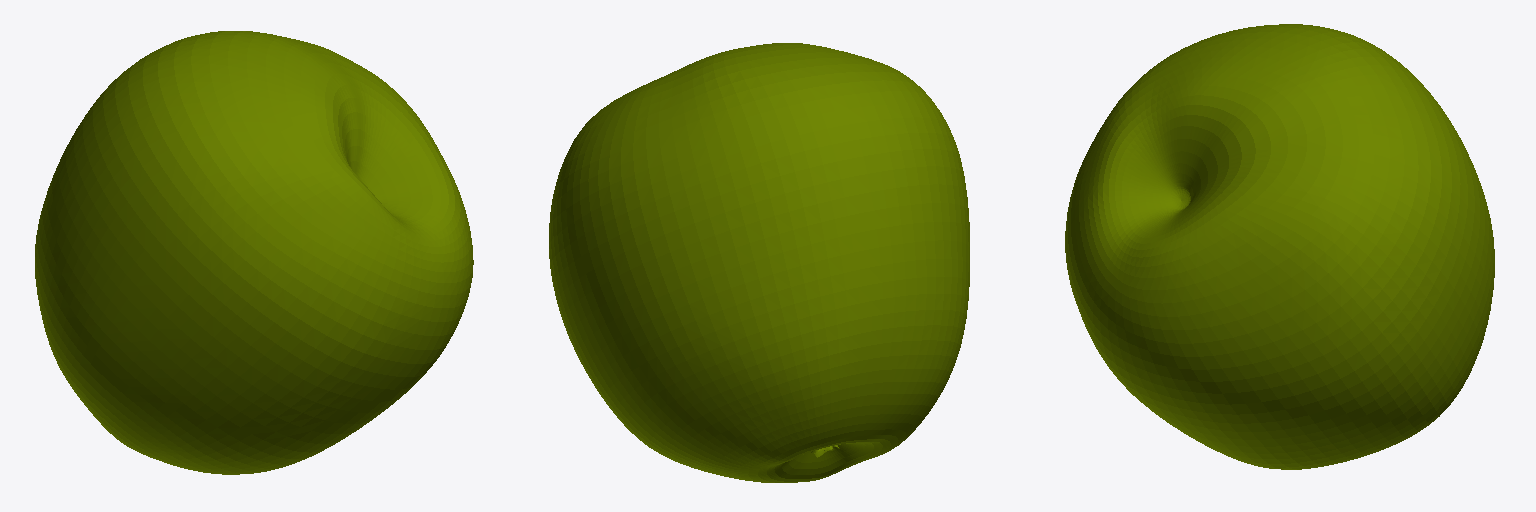
File: one_apple.obj
3 renders of one model, left to right at view 1: azimuth 30°, elevation 25°; view 2: azimuth 150°, elevation 25°; view 3: azimuth 270°, elevation 25°, orthographic.
Visible parts, largest first — view 1: APLLE018; view 2: APLLE018; view 3: APLLE018.
Boxes of the visible parts, x1=… form: APLLE018: x1=35, y1=31, x2=473, y2=474; APLLE018: x1=549, y1=43, x2=969, y2=482; APLLE018: x1=1065, y1=24, x2=1494, y2=469.
Size of the model in its own units: 1.91 by 2.01 by 1.92.